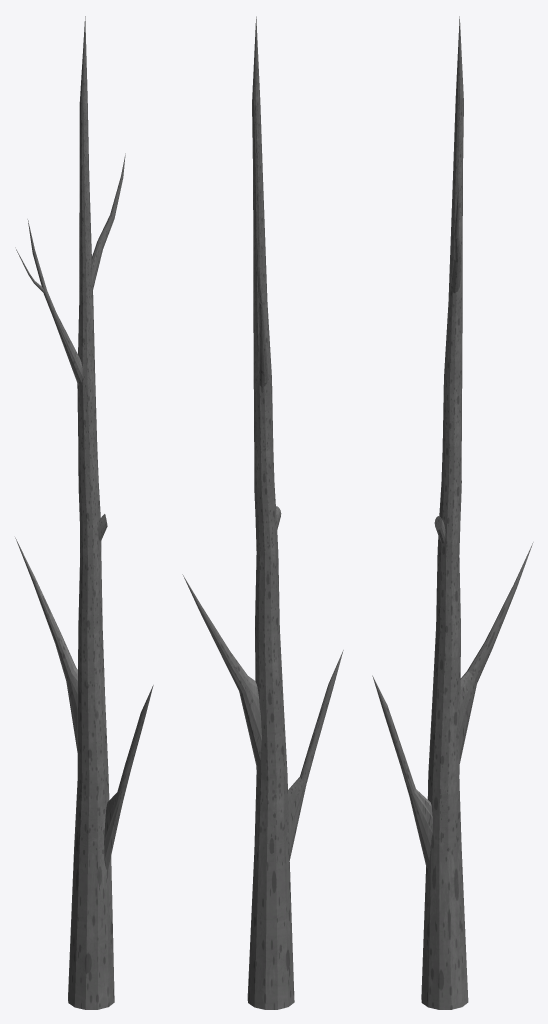
Rendered from ForestWinterTree01.fbx.
3 renders of one model, left to right at view 1: azimuth 90°, elevation 25°; view 2: azimuth 150°, elevation 25°; view 3: azimuth 330°, elevation 25°, orthographic.
Visible parts, largest first — view 1: SM_ENV_NATURE_ForestTree_Winter01.mo; view 2: SM_ENV_NATURE_ForestTree_Winter01.mo; view 3: SM_ENV_NATURE_ForestTree_Winter01.mo.
Boxes of the visible parts, x1,y1,x2,y2 form: SM_ENV_NATURE_ForestTree_Winter01.mo: [15, 16, 153, 1009]; SM_ENV_NATURE_ForestTree_Winter01.mo: [182, 16, 343, 1009]; SM_ENV_NATURE_ForestTree_Winter01.mo: [372, 16, 533, 1009].
Size of the model in its own units: 109 by 1122 by 145.
1 material, 1 textured.
